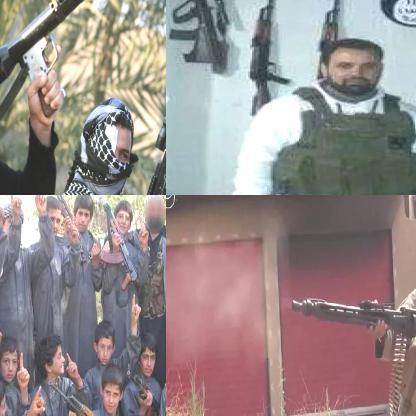rifle: (0, 0, 165, 119), (289, 294, 415, 375), (121, 11, 165, 194), (240, 0, 289, 117), (166, 0, 229, 78), (310, 0, 358, 86), (100, 202, 138, 290), (46, 376, 130, 415), (119, 364, 160, 415), (42, 195, 81, 246)
